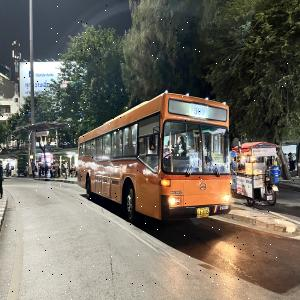BMTA-bus: (77, 91, 233, 225)
Bus Line Number: (189, 102, 209, 119)
Bus Side Number: (219, 204, 229, 210)
Destination Sign: (210, 152, 225, 166)
